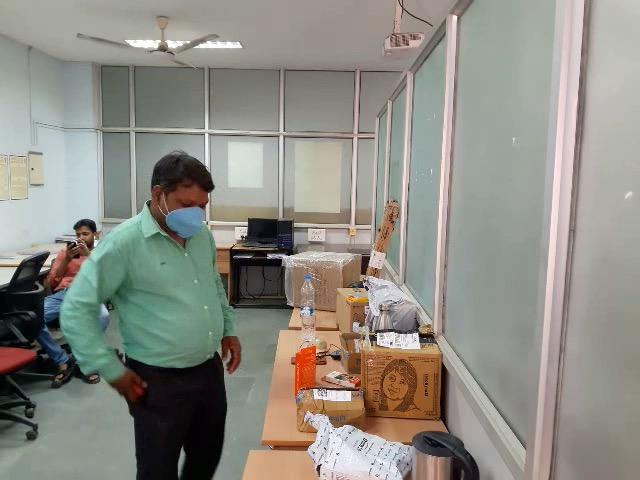shoplifting: (32, 316, 264, 441)
